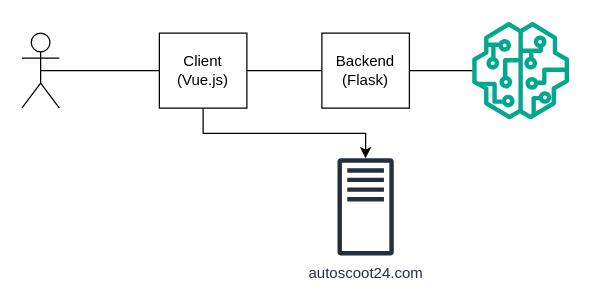
The diagram is 603 pixels wide and 303 high, and some of its shapes have lost their labels. The box of each missing label's shape, as (x1, y1, x2, y2) in pixels:
Regression model: (471, 21, 569, 119)
User: (21, 32, 59, 108)
